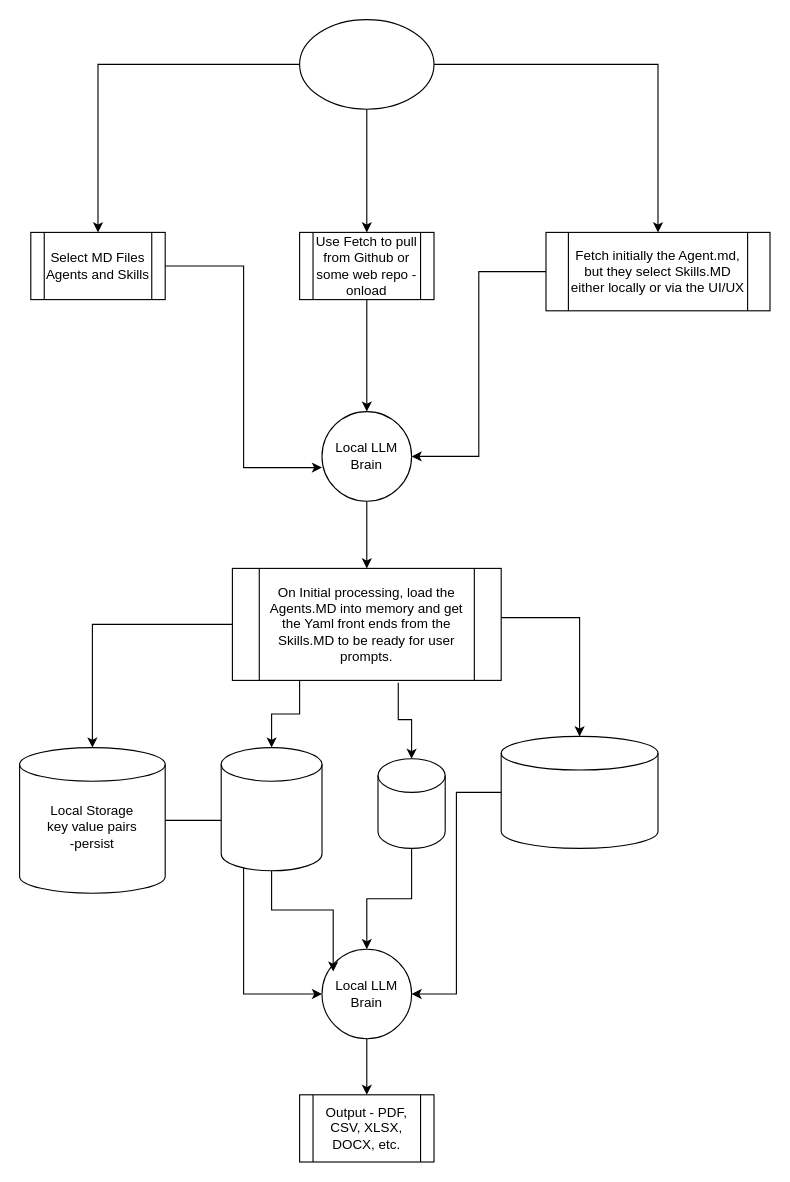
Image size: 790x1182. Some labels were removed from this diagram. The box of each missing label's shape, as (x1, y1, x2, y2) in pixels:
Browser Cache - In memory: (377, 758, 445, 848)
IndexedDB Store as Plain text or Vectorize - Voy - max size - persistence: (220, 746, 322, 871)
Start / Page Load: (298, 18, 434, 109)
Write a summary MD to a file and then the page knows to process with file i/o: (500, 735, 658, 848)
